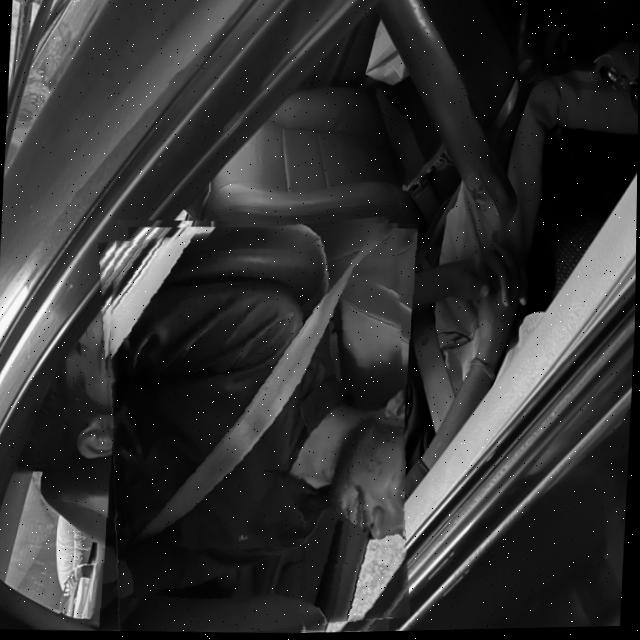seatbelt: (89, 214, 417, 638)
